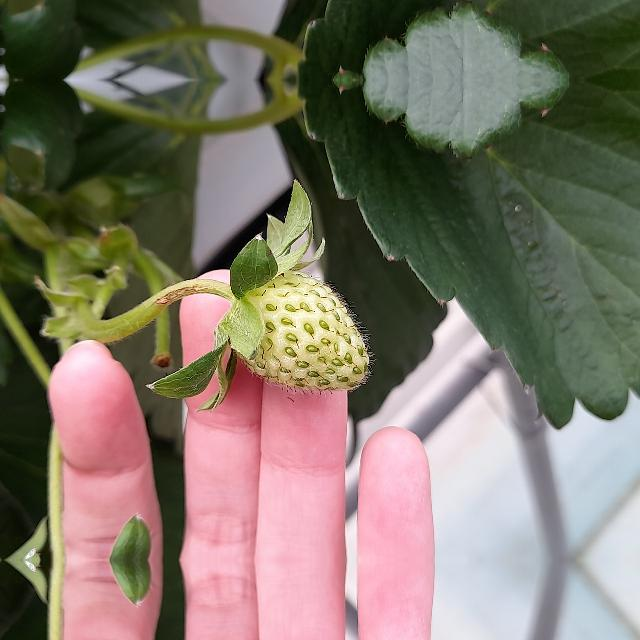Health_25: (235, 270, 368, 390)
